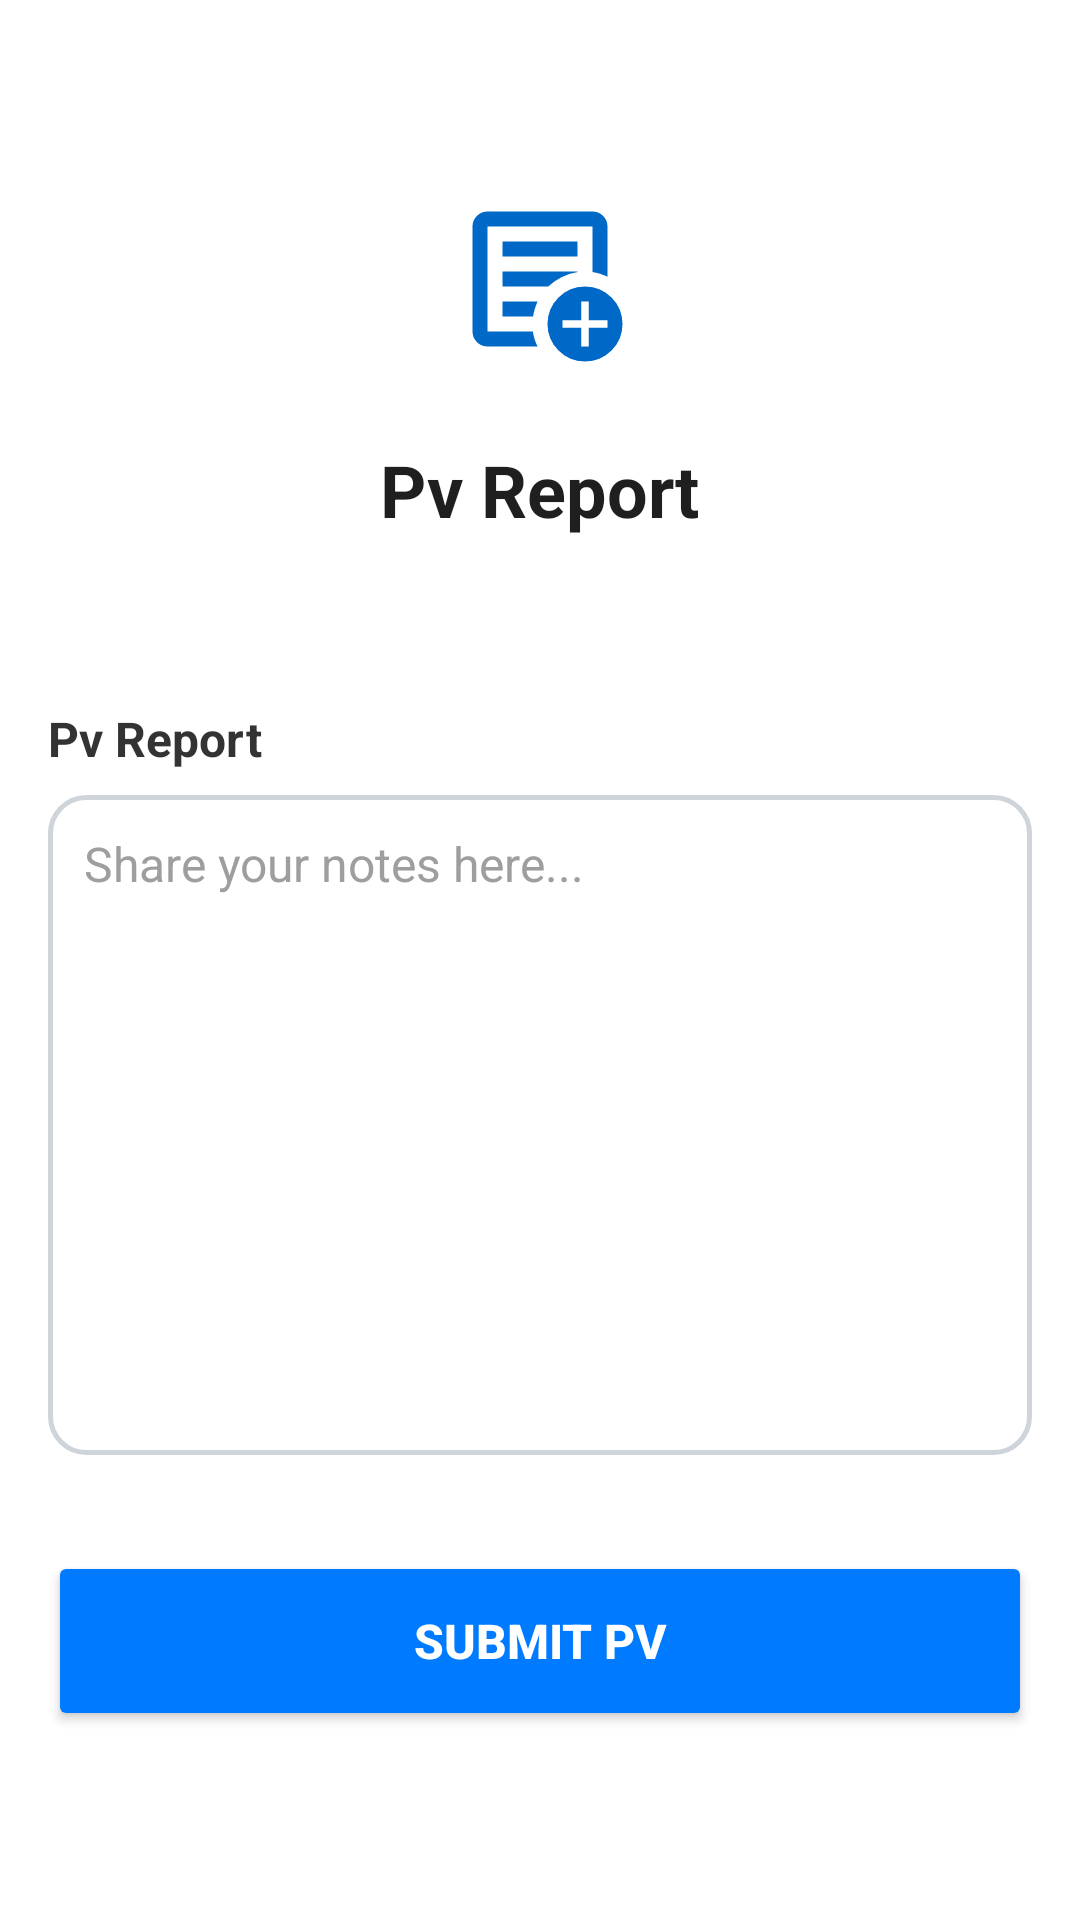

Icons on this 1080w x 1920h Android screen, each with the point to tap as (x,y):
note: (547,286)
